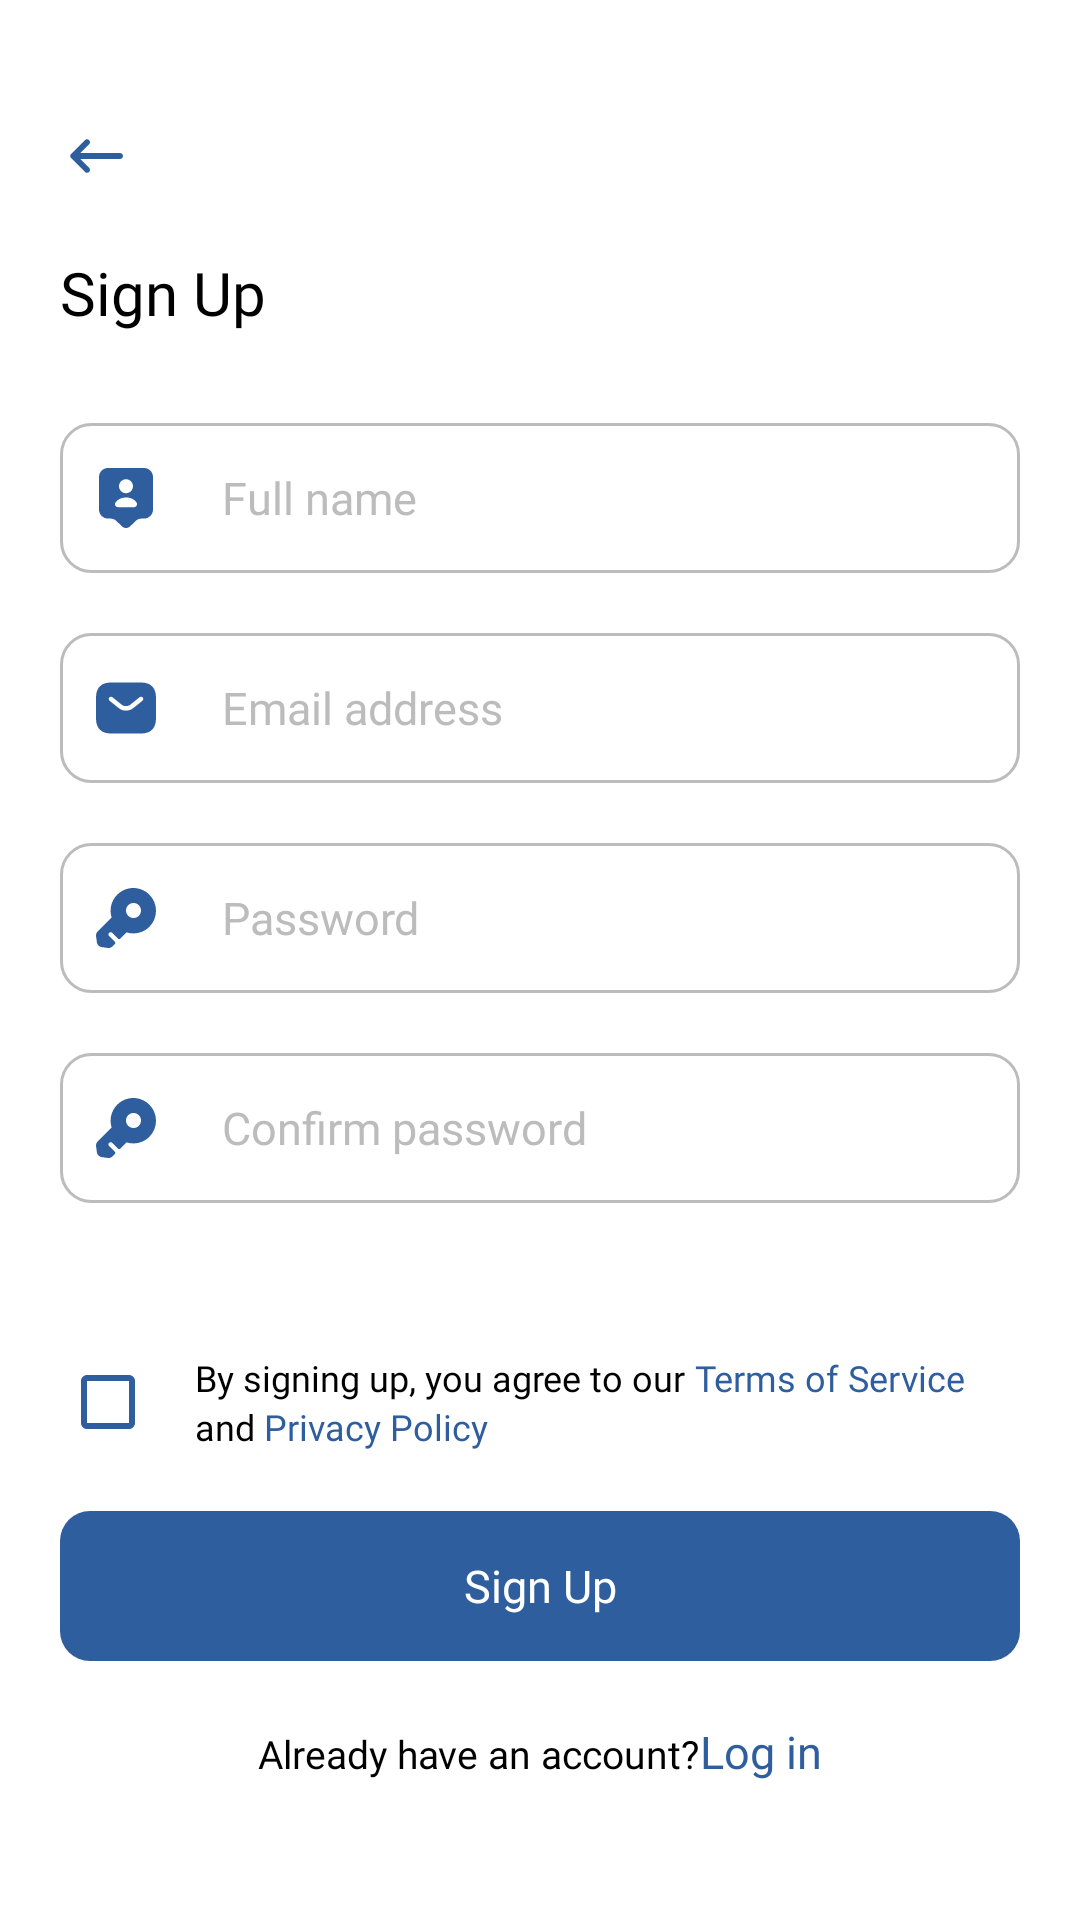

Icon bounding boxes for this 1080 × 1920 phone screenshot, format box(x1, y1, x2, y2):
back: box(70, 139, 123, 173)
key: box(96, 888, 156, 948), box(96, 1098, 156, 1158)
usertag: box(99, 468, 153, 528)
